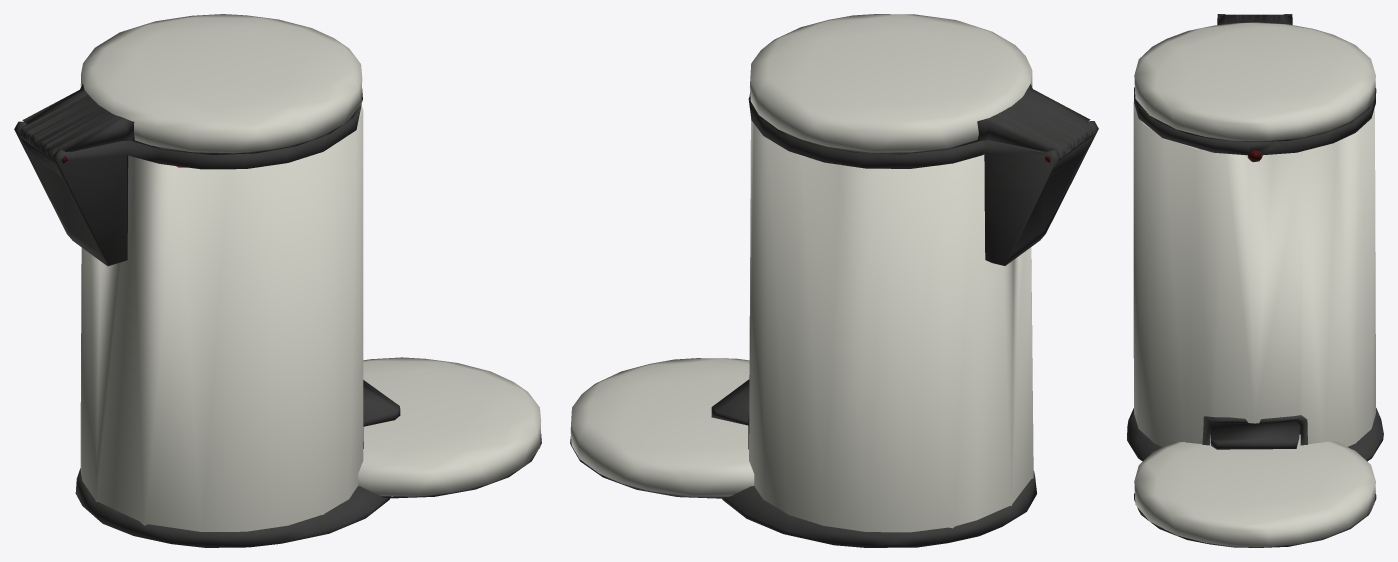
Rendered from bin_waste.glb.
3 views of the same model, side by side, from view 1: azimuth 30°, elevation 25°; view 2: azimuth 150°, elevation 25°; view 3: azimuth 270°, elevation 25° (orthographic). The views are drawn at different scales.
Visible parts, largest first — view 1: body_01_mesh_00, lid_01_mesh_00 (×2), pedal_01_mesh_00; view 2: body_01_mesh_00, lid_01_mesh_00 (×2), pedal_01_mesh_00; view 3: body_01_mesh_00, lid_01_mesh_00 (×2), pedal_01_mesh_00.
Part boxes in pixels (box(x1,y1,x2,y2)): body_01_mesh_00: box(14, 103, 390, 547); lid_01_mesh_00 (×2): box(20, 14, 541, 498); pedal_01_mesh_00: box(363, 380, 400, 426); body_01_mesh_00: box(722, 97, 1098, 547); lid_01_mesh_00 (×2): box(570, 14, 1092, 498); pedal_01_mesh_00: box(711, 379, 749, 425); body_01_mesh_00: box(1127, 14, 1383, 461); lid_01_mesh_00 (×2): box(1134, 14, 1376, 547); pedal_01_mesh_00: box(1210, 421, 1299, 449).
Bounding box in the file's own units: 0.3374 × 0.3016 × 0.18.
8 materials, 4 textured.
